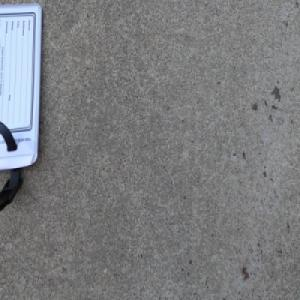LuggageTag: (0, 3, 44, 212)
